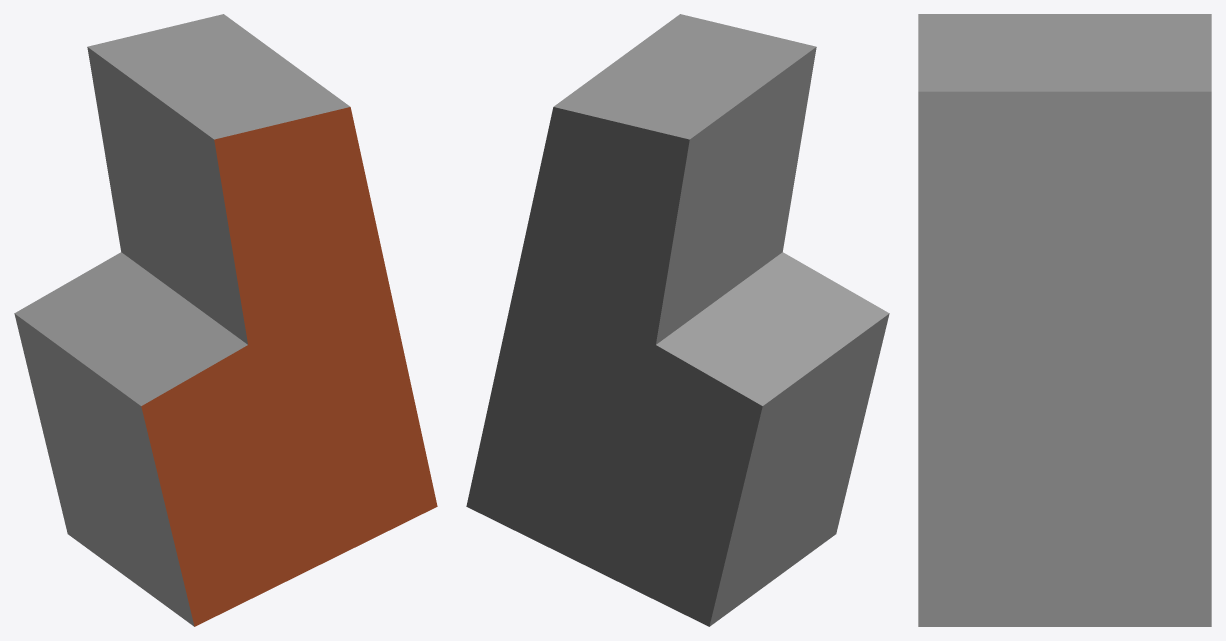
Rendered from construction_6956_assumed_A_Casa_h6m.obj.
3 renders of one model, left to right at view 1: azimuth 30°, elevation 25°; view 2: azimuth 150°, elevation 25°; view 3: azimuth 270°, elevation 25°, orthographic. The views are drawn at different scales.
Parts seen in each view (by area): view 1: construction_6956_assumed_A_Casa; view 2: construction_6956_assumed_A_Casa; view 3: construction_6956_assumed_A_Casa.
Boxes of the visible parts, box(x1,y1,x2,y2) form: construction_6956_assumed_A_Casa: box(14, 14, 437, 626); construction_6956_assumed_A_Casa: box(466, 14, 889, 626); construction_6956_assumed_A_Casa: box(918, 14, 1211, 626).
Bounding box in the file's own units: 8.09 × 12.59 × 6.
